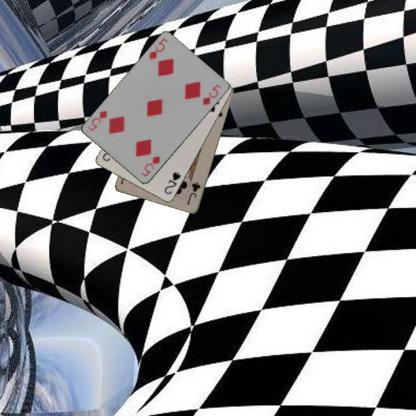2s: (162, 169, 182, 196)
5d: (146, 36, 170, 61), (138, 154, 161, 178)
Jc: (184, 180, 202, 206)
